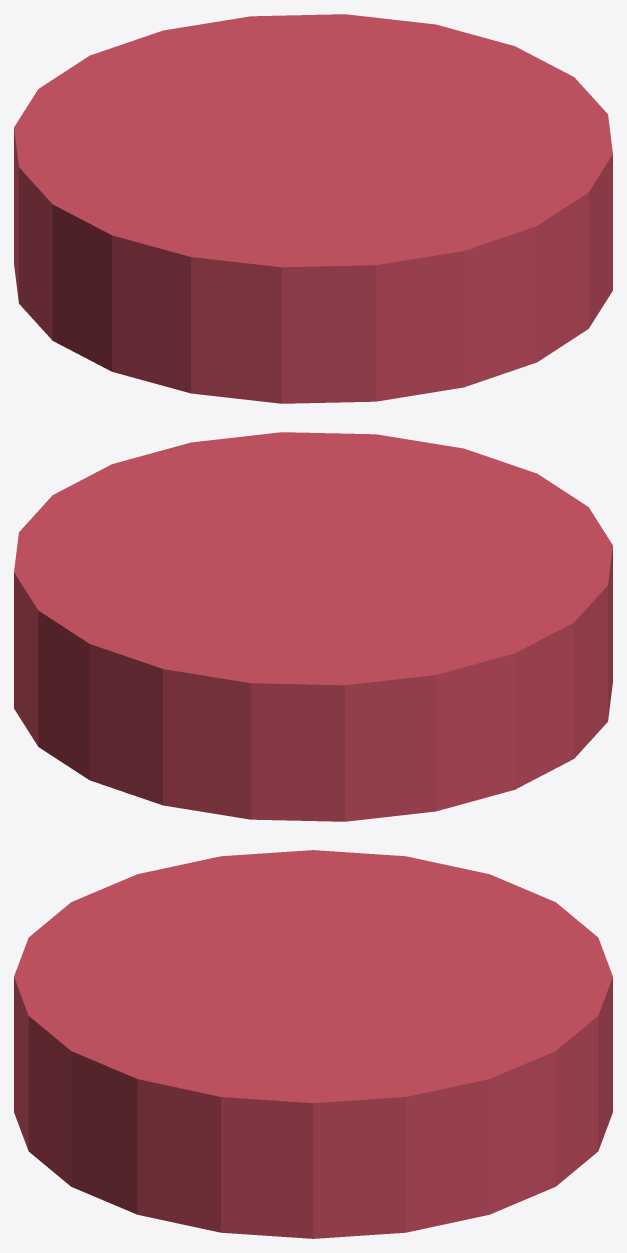
File: red_piece.glb
3 renders of one model, top to bottom at view 1: azimuth 30°, elevation 25°; view 2: azimuth 150°, elevation 25°; view 3: azimuth 270°, elevation 25°, orthographic.
Parts seen in each view (by area): view 1: Mesh_Mesh_head_geo.001_lambert2SG.001; view 2: Mesh_Mesh_head_geo.001_lambert2SG.001; view 3: Mesh_Mesh_head_geo.001_lambert2SG.001.
Part boxes in pixels (bbox=[...]): Mesh_Mesh_head_geo.001_lambert2SG.001: bbox=[14, 14, 612, 403]; Mesh_Mesh_head_geo.001_lambert2SG.001: bbox=[14, 432, 612, 821]; Mesh_Mesh_head_geo.001_lambert2SG.001: bbox=[14, 850, 612, 1238].
Bounding box in the file's own units: 4 × 1 × 4.
